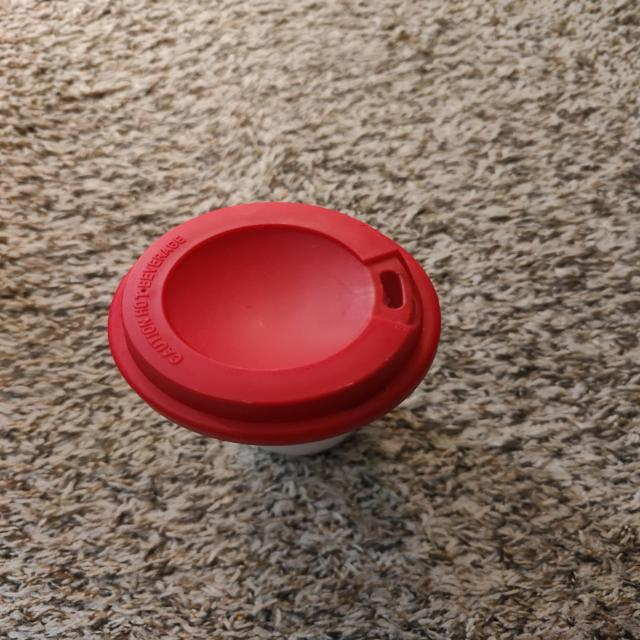mug: (113, 199, 441, 452), (124, 220, 431, 454), (394, 422, 533, 448)
